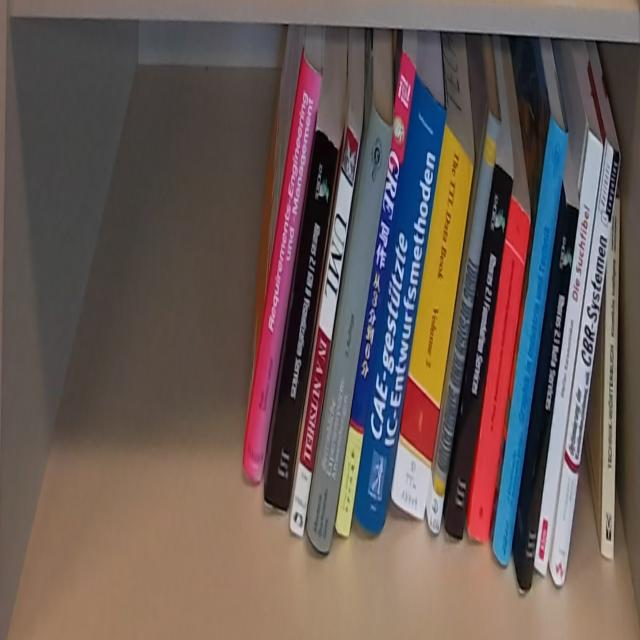Book Spine: (354, 76, 446, 536), (334, 44, 419, 537), (308, 101, 391, 556), (239, 48, 323, 489), (493, 112, 569, 567), (390, 128, 473, 522), (425, 112, 500, 534), (534, 130, 602, 578), (551, 147, 620, 587), (290, 122, 359, 541), (267, 130, 338, 517), (444, 158, 515, 544), (519, 197, 581, 588), (468, 195, 534, 544), (602, 193, 622, 565)
